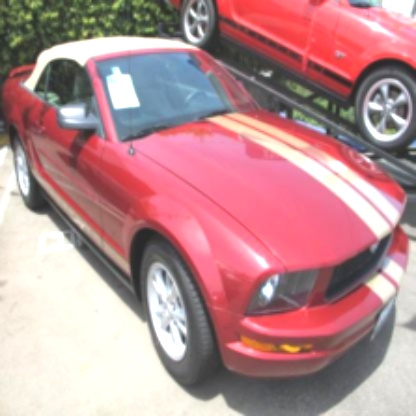Vehicle: (2, 34, 413, 400)
